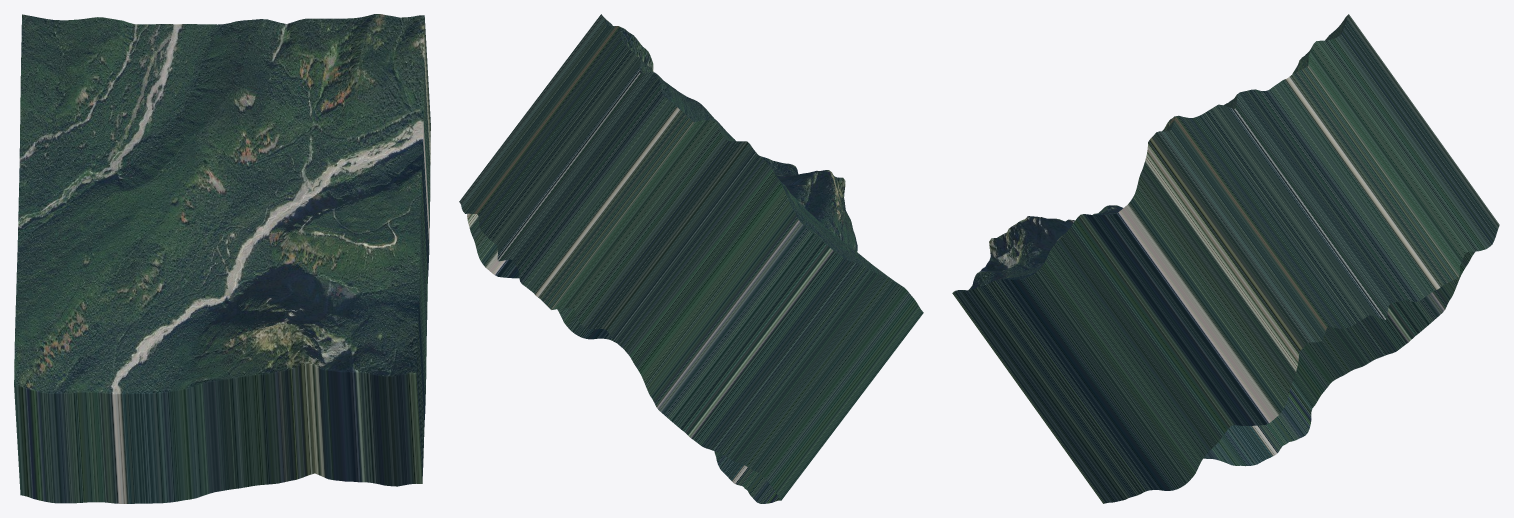
The picture shows the model from 3 angles, left to right: view 1: azimuth 30°, elevation 25°; view 2: azimuth 150°, elevation 25°; view 3: azimuth 270°, elevation 25°; orthographic projection. The views are drawn at different scales.
Size of the model in its own units: 5861 by 5413 by 6332.
1 material, 1 textured.
